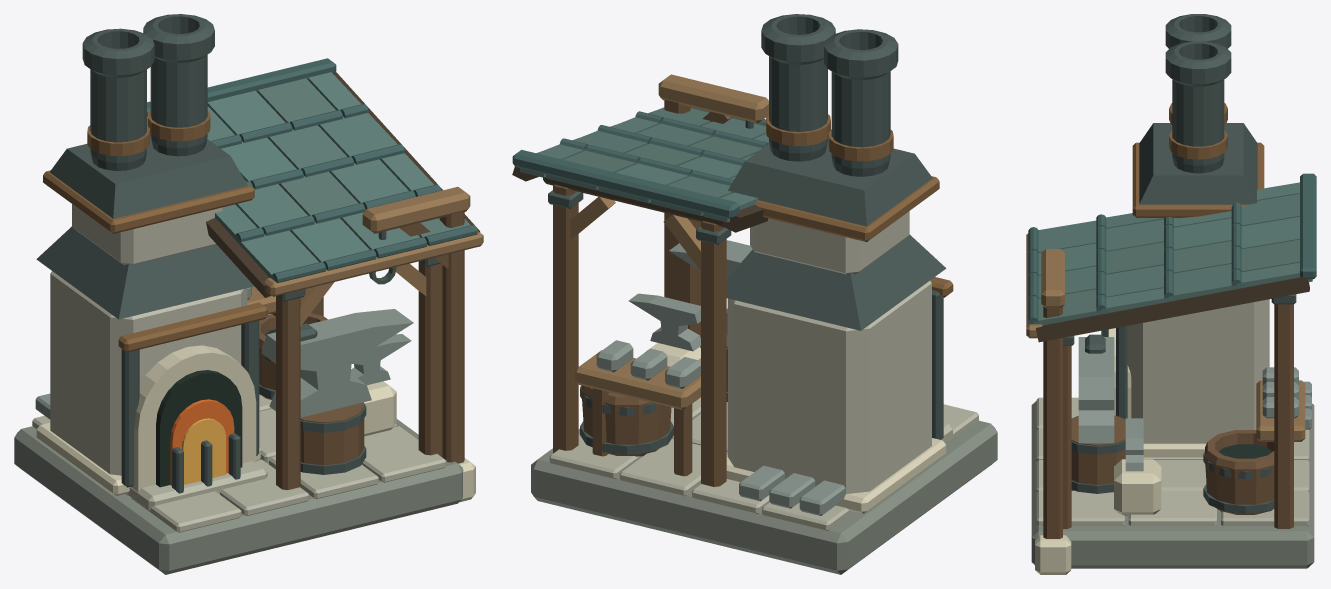
The model's file is smithy_3.glb.
3 renders of one model, left to right at view 1: azimuth 30°, elevation 25°; view 2: azimuth 150°, elevation 25°; view 3: azimuth 270°, elevation 25°, orthographic. The views are drawn at different scales.
Parts seen in each view (by area): view 1: Stone, Metal, Roof, Timber; view 2: Stone, Metal, Timber, Roof; view 3: Stone, Metal, Roof, Timber.
Part boxes in pixels (x1,y1,x2,y2): Stone: (14,204,475,574); Metal: (35,14,440,493); Roof: (147,58,477,282); Timber: (206,72,483,489); Stone: (531,211,997,574); Metal: (548,14,953,515); Timber: (512,74,768,486); Roof: (512,107,769,222); Stone: (1031,299,1314,574); Metal: (1063,14,1311,513); Roof: (1028,173,1316,325); Timber: (1026,233,1309,538).
Bounding box in the file's own units: 2.89 × 3.96 × 2.43.
